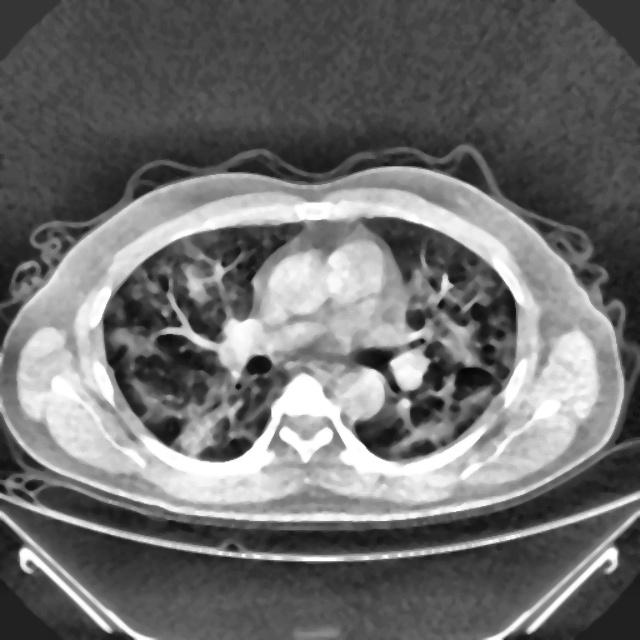covid: (1, 146, 629, 531)
